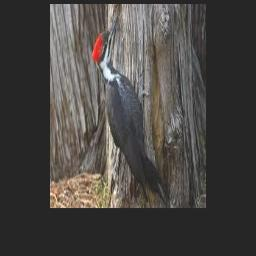Woodpecker: (91, 14, 167, 206)
